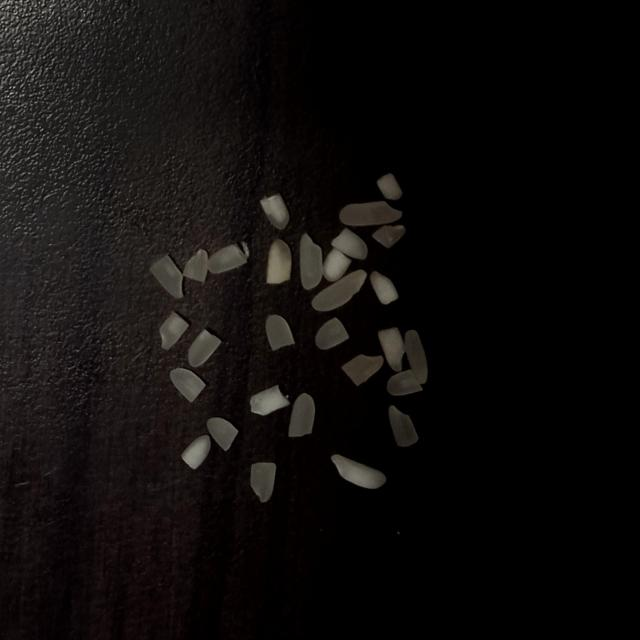Broken: (149, 254, 183, 298), (342, 354, 384, 386), (170, 368, 206, 404), (188, 330, 222, 368), (388, 404, 418, 446), (378, 328, 406, 372), (249, 385, 290, 415), (208, 244, 248, 274), (266, 238, 292, 284), (288, 393, 315, 437), (332, 228, 368, 260), (159, 312, 189, 350), (206, 417, 238, 452), (260, 193, 290, 230), (315, 318, 349, 350), (265, 315, 295, 351), (250, 462, 276, 502), (370, 271, 400, 305), (181, 435, 211, 469), (387, 368, 423, 396), (322, 248, 351, 282), (183, 249, 208, 282), (372, 226, 406, 248), (377, 172, 402, 200)
Full: (311, 270, 367, 312), (331, 455, 386, 489), (339, 200, 402, 227), (404, 329, 428, 384), (300, 232, 322, 290)
